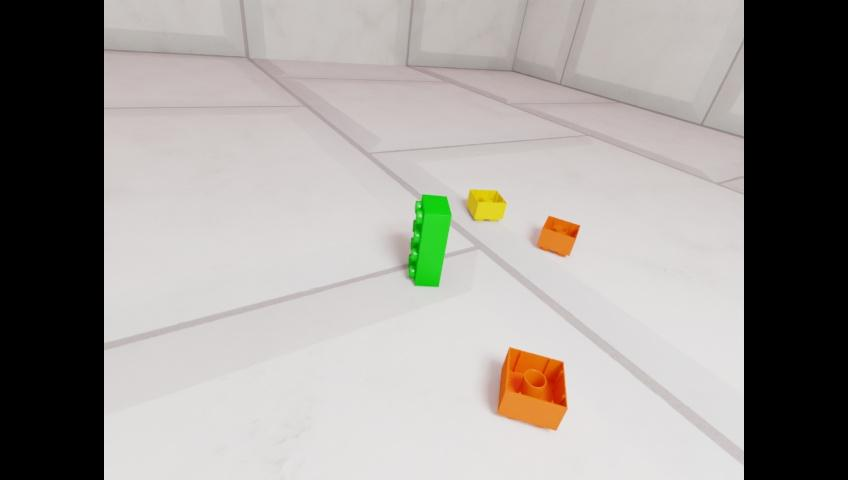2x2_orange: (497, 346, 567, 430), (536, 214, 579, 256)
2x2_yellow: (467, 190, 507, 223)
4x2_green: (408, 193, 451, 286)
